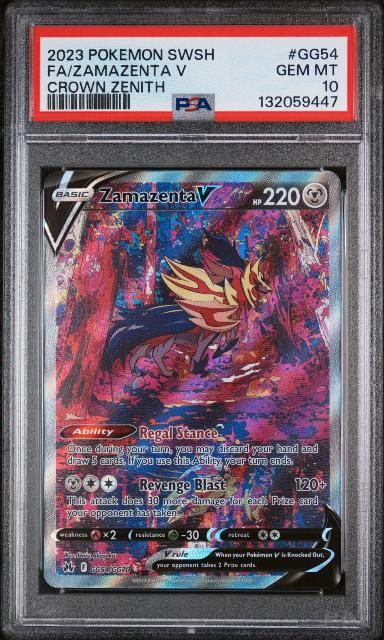Card: (38, 165, 348, 597)
Name: (96, 180, 227, 208)
